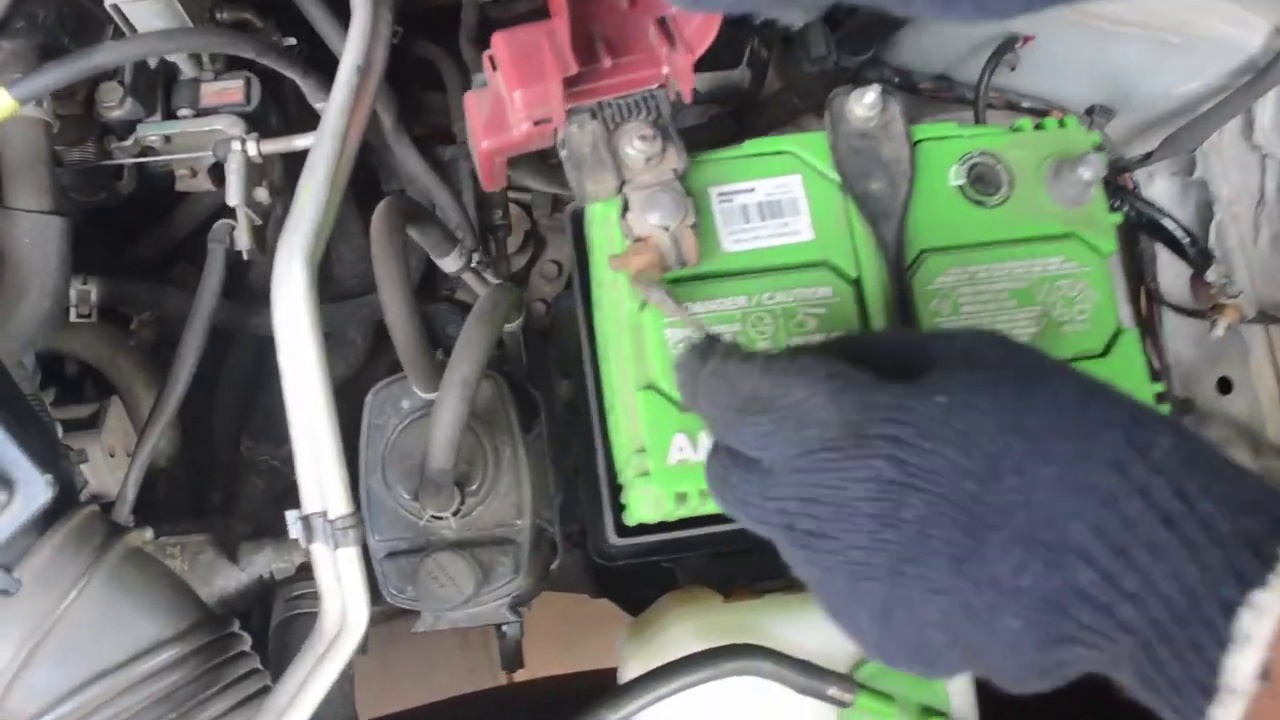battery: (571, 113, 1154, 495)
neg_disconnected: (1018, 116, 1144, 226)
pos_connected: (523, 1, 709, 266)
